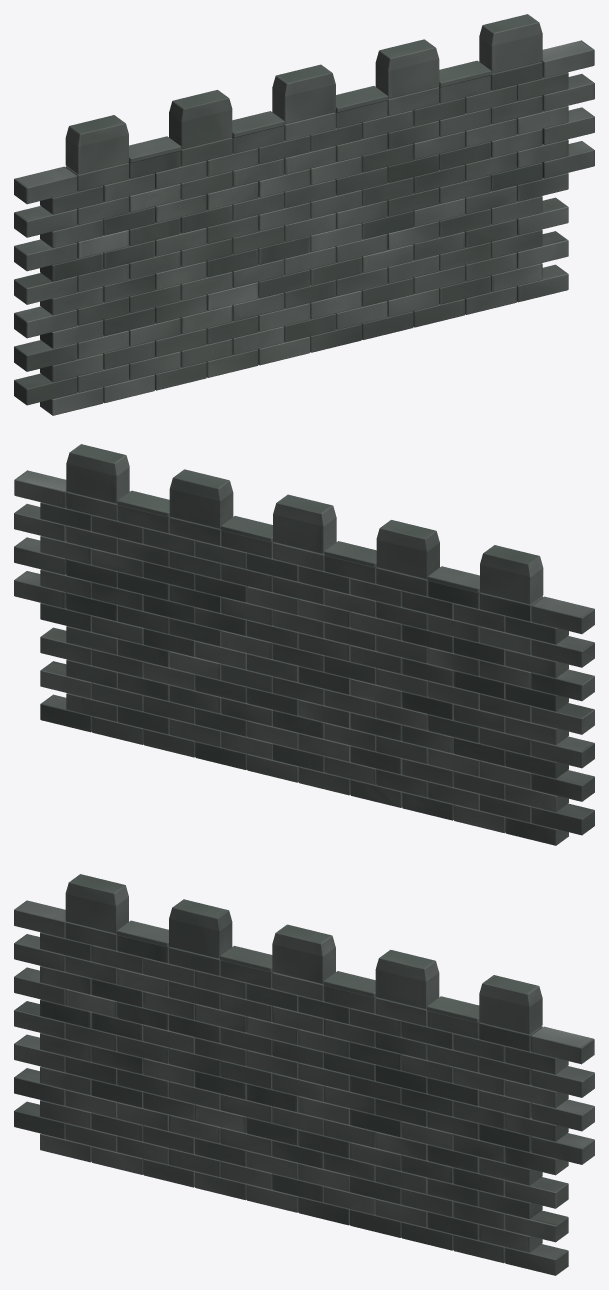
File: Medieval Wall_1.fbx
3 renders of one model, top to bottom at view 1: azimuth 30°, elevation 25°; view 2: azimuth 150°, elevation 25°; view 3: azimuth 330°, elevation 25°, orthographic.
Parts seen in each view (by area): view 1: Medieval Wall.002; view 2: Medieval Wall.002; view 3: Medieval Wall.002.
Boxes of the visible parts, box(x1,y1,x2,y2) form: Medieval Wall.002: box(14, 14, 594, 415); Medieval Wall.002: box(14, 444, 594, 845); Medieval Wall.002: box(14, 874, 594, 1275).
Size of the model in its own units: 1027 by 474 by 44.55.
1 material, 1 textured.
